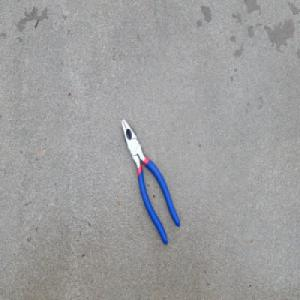Pliers: (120, 115, 181, 246)
